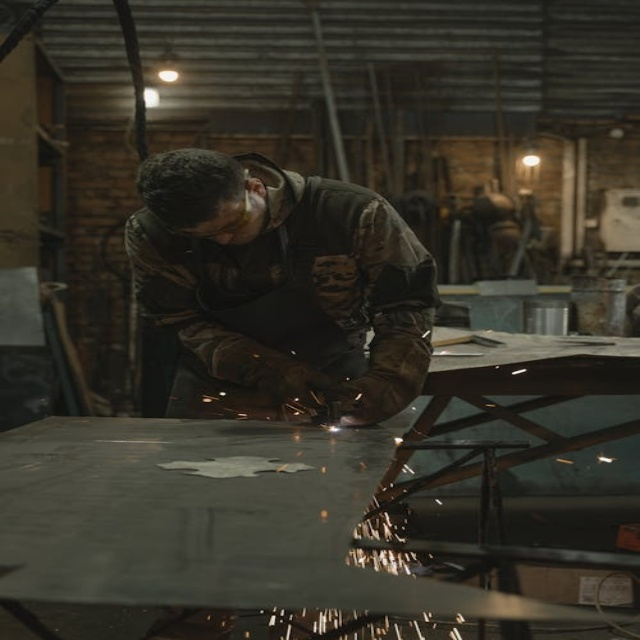Gafas: (172, 184, 255, 241)
Guantes: (198, 329, 348, 413), (324, 328, 447, 429)
